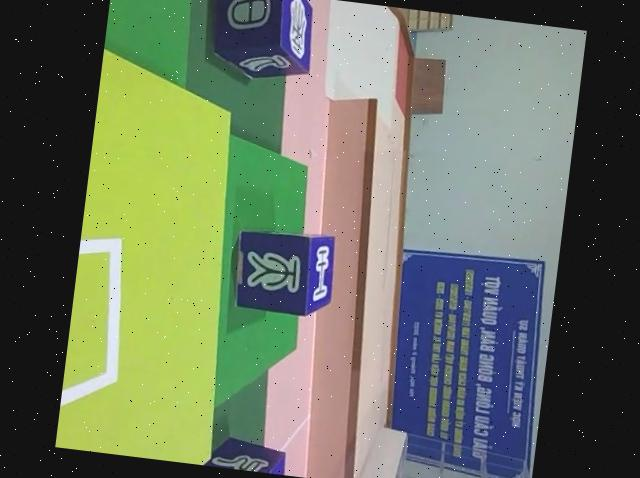R2 Fake Blue: (226, 224, 337, 321), (198, 0, 315, 87), (185, 431, 290, 476)
